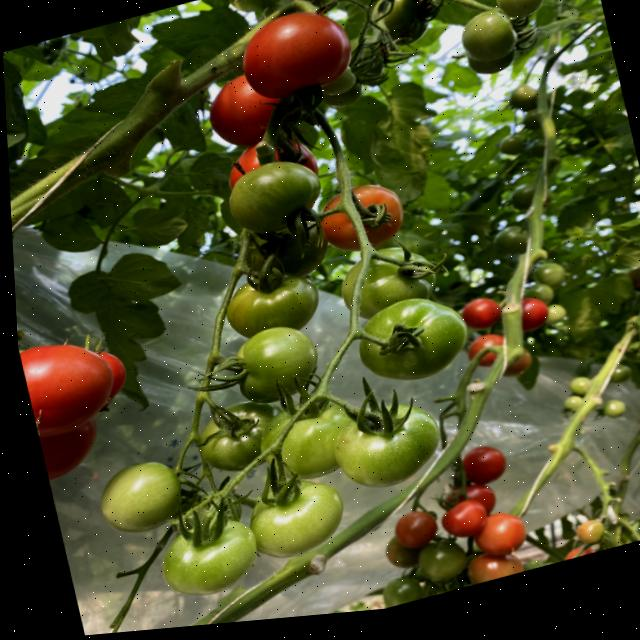ripe0: (351, 285, 475, 393), (328, 392, 447, 496), (154, 511, 265, 604), (245, 471, 352, 564), (228, 318, 323, 409), (335, 236, 440, 317), (220, 264, 323, 341)
ripe2: (233, 0, 355, 103), (19, 328, 122, 437), (439, 497, 490, 541)
